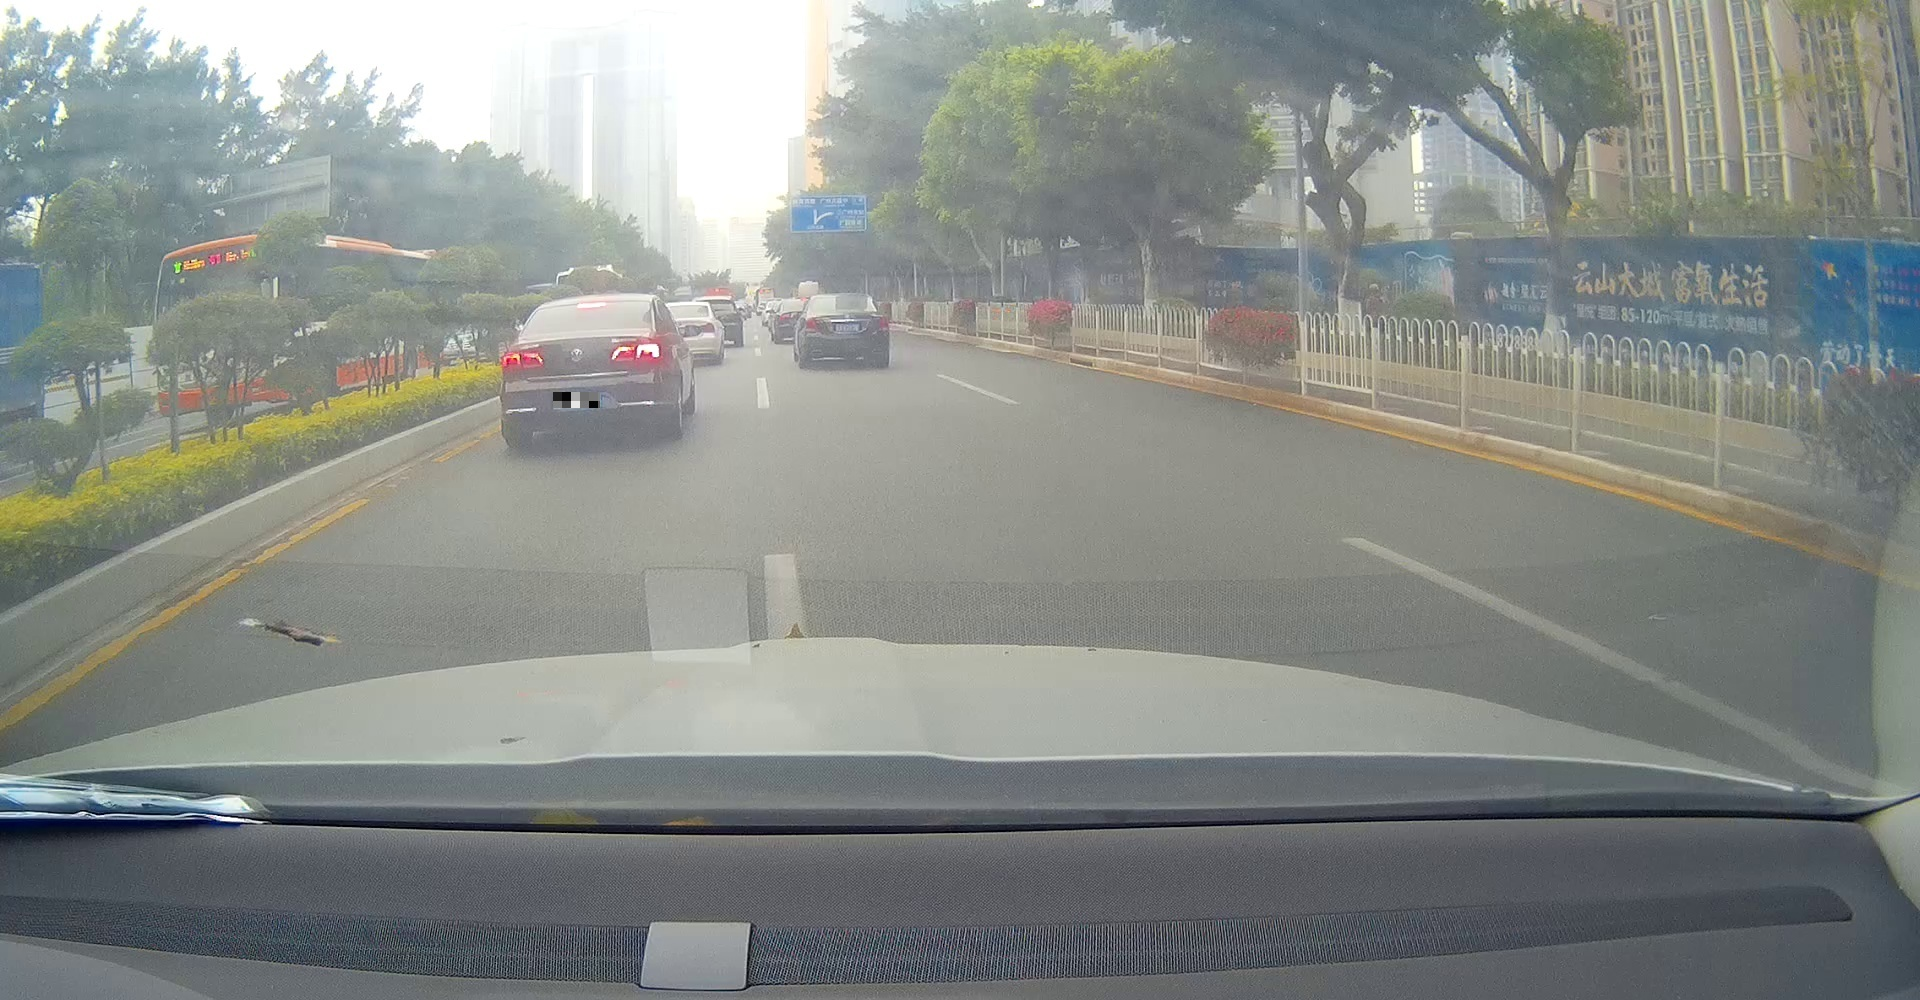L_light: (502, 349, 543, 371), (806, 319, 817, 330)
R_light: (611, 340, 662, 362), (880, 316, 888, 327)
T_light: (577, 301, 607, 307), (834, 297, 850, 299)
day-brake: (499, 294, 665, 448)
day-no: (803, 293, 889, 365)
plate_1: (552, 392, 599, 409)
